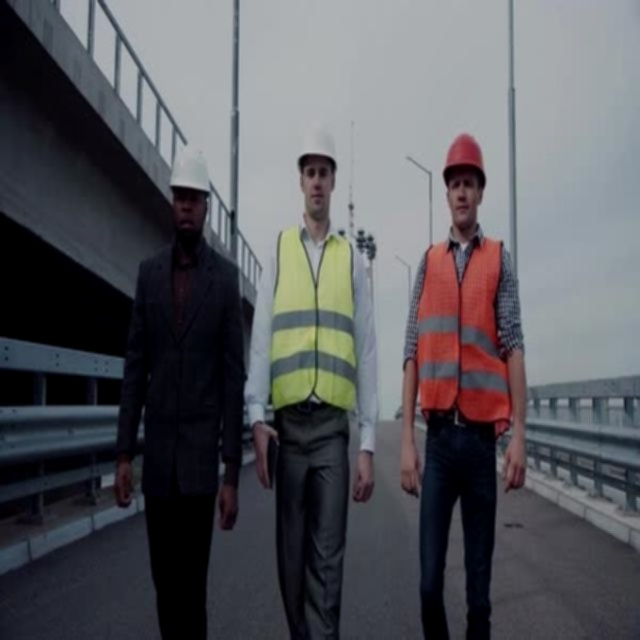Con_Chaleco: (271, 226, 352, 441), (417, 237, 499, 435)
Sin_Chaleco: (136, 245, 230, 504)
